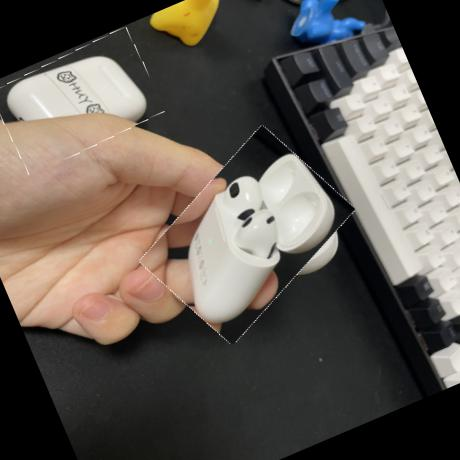airpod2: (0, 26, 167, 176)
airpod3: (124, 121, 370, 346)
